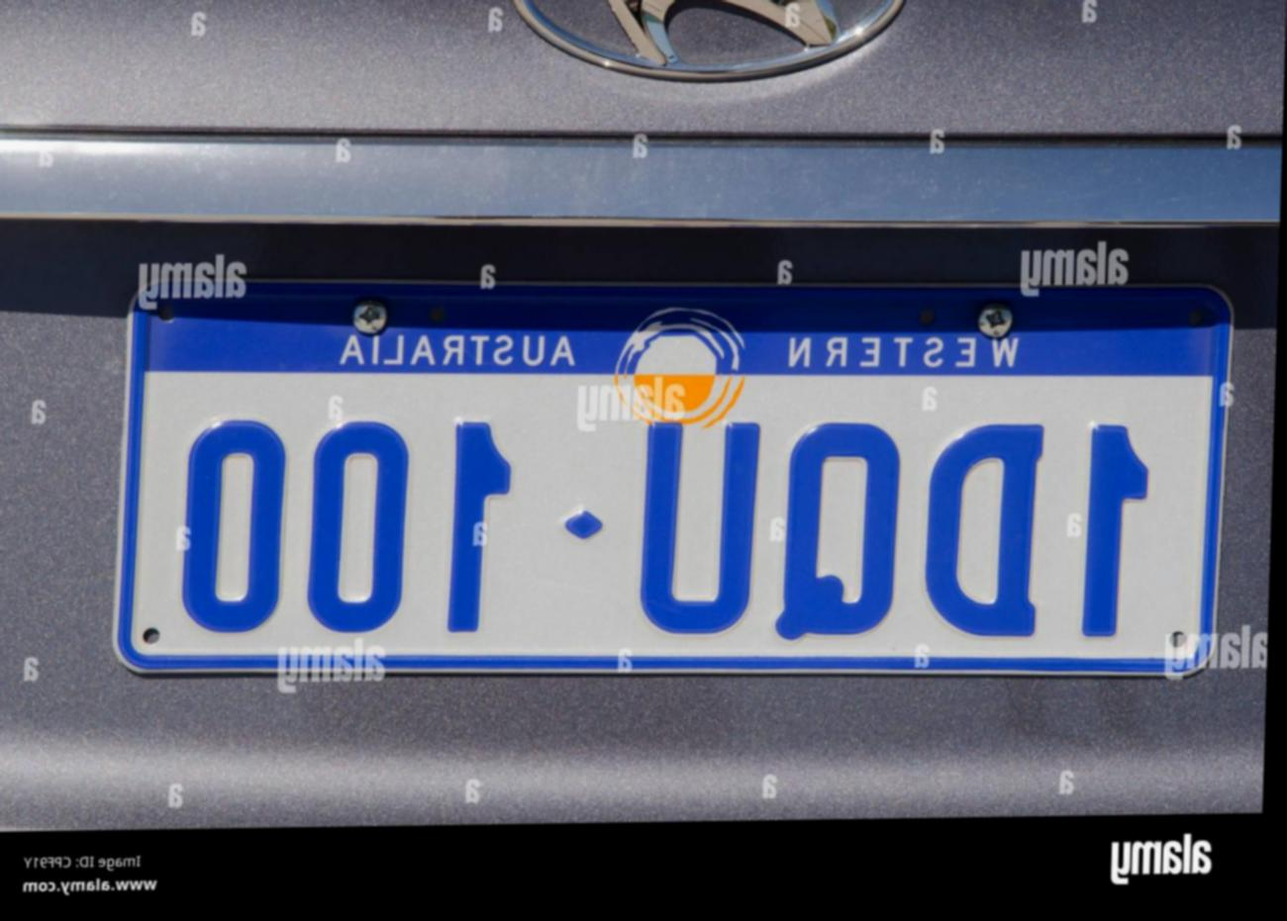License_Plate: (115, 267, 1230, 686)
